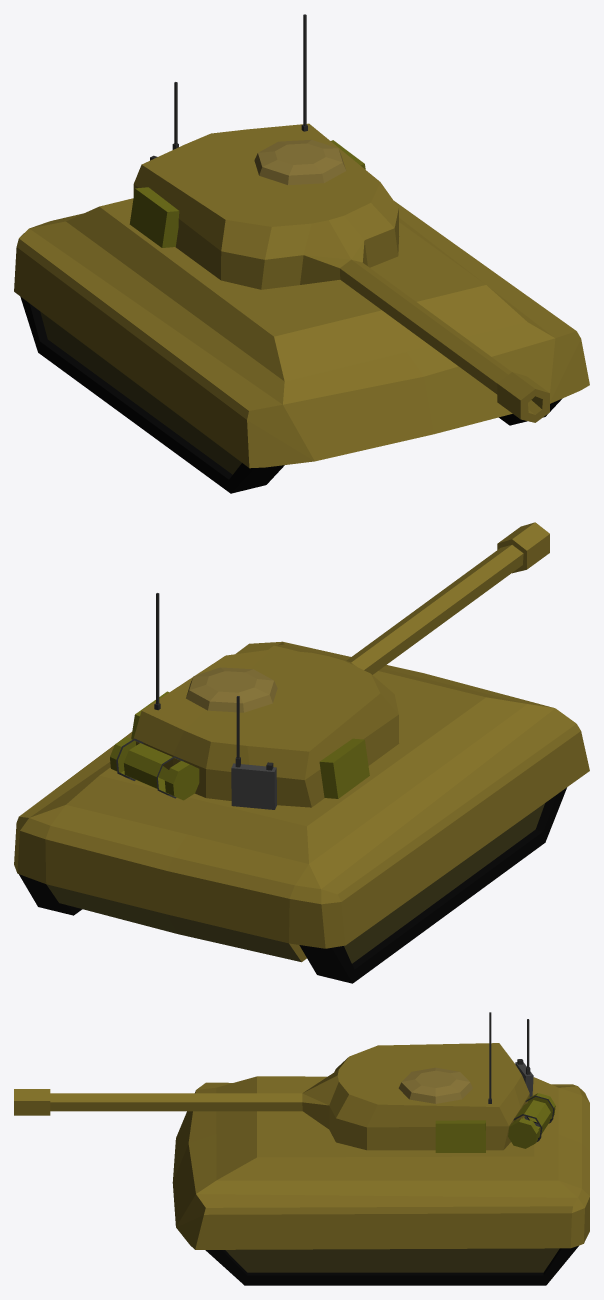
File: TANK.fbx
3 views of the same model, one above another, from view 1: azimuth 30°, elevation 25°; view 2: azimuth 150°, elevation 25°; view 3: azimuth 270°, elevation 25° (orthographic). The views are drawn at different scales.
Visible parts, largest first — view 1: tanque, cañon; view 2: tanque, cañon; view 3: tanque, cañon.
Part boxes in pixels (x1,y1,x2,y2): tanque: (14,198,589,493); cañon: (129,14,549,422); tanque: (14,641,589,983); cañon: (110,522,549,809); tanque: (172,1076,589,1285); cañon: (14,1012,555,1152).
Size of the model in its own units: 251 by 217 by 470.
